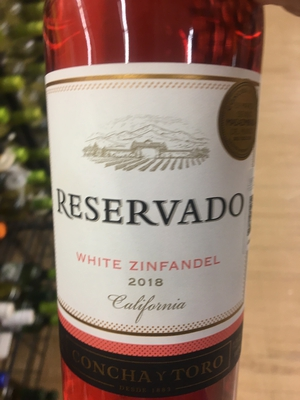reservado white zinfandel: (41, 21, 261, 400)
